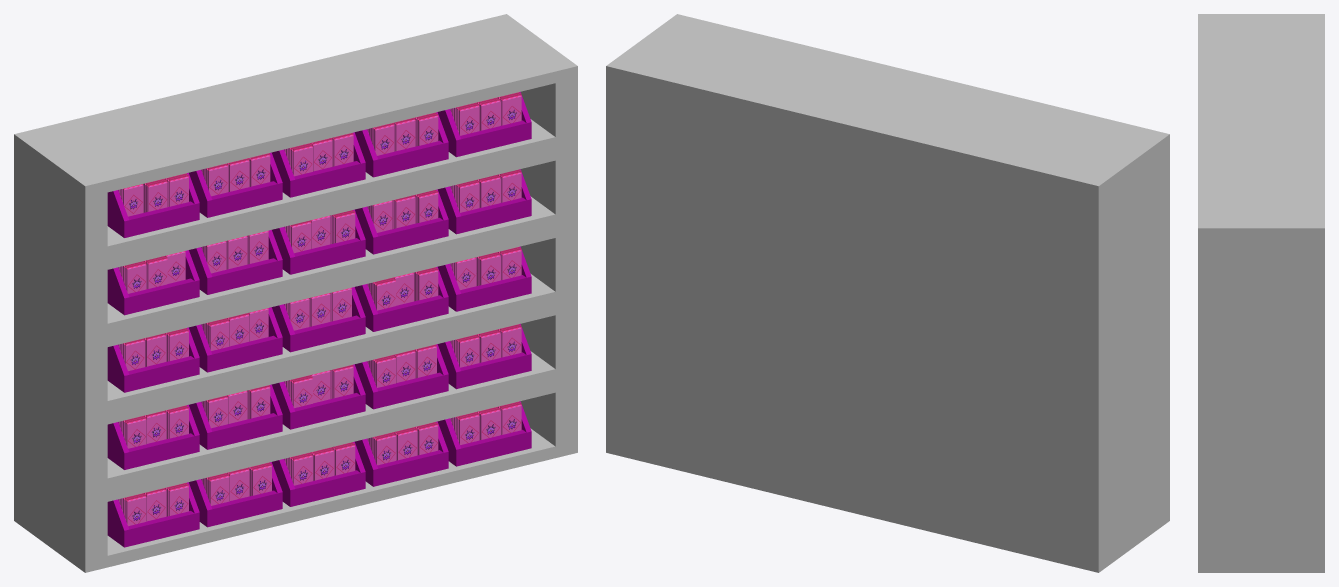
File: Evelmart_Shelf_Psychic.fbx
The picture shows the model from 3 angles, left to right: view 1: azimuth 30°, elevation 25°; view 2: azimuth 150°, elevation 25°; view 3: azimuth 270°, elevation 25°; orthographic projection. The views are drawn at different scales.
Visible parts, largest first — view 1: Long Bookshelf, Cube.044, Cube.043, Cube.042, Cube.045, Cube.041, Psychic, Psychic.004, Psychic.001, Psychic.002, Psychic.003; view 2: Long Bookshelf; view 3: Long Bookshelf.
Boxes of the visible parts, x1,y1,x2,y2 form: Long Bookshelf: [14, 14, 577, 572]; Cube.044: [107, 169, 531, 315]; Cube.043: [107, 246, 531, 392]; Cube.042: [107, 324, 531, 469]; Cube.045: [107, 92, 531, 237]; Cube.041: [107, 401, 531, 547]; Psychic: [118, 401, 521, 526]; Psychic.004: [118, 92, 521, 216]; Psychic.001: [118, 324, 521, 448]; Psychic.002: [118, 246, 521, 371]; Psychic.003: [118, 169, 521, 293]; Long Bookshelf: [606, 14, 1169, 572]; Long Bookshelf: [1198, 14, 1324, 572].
Size of the model in its own units: 805 by 604 by 201.
